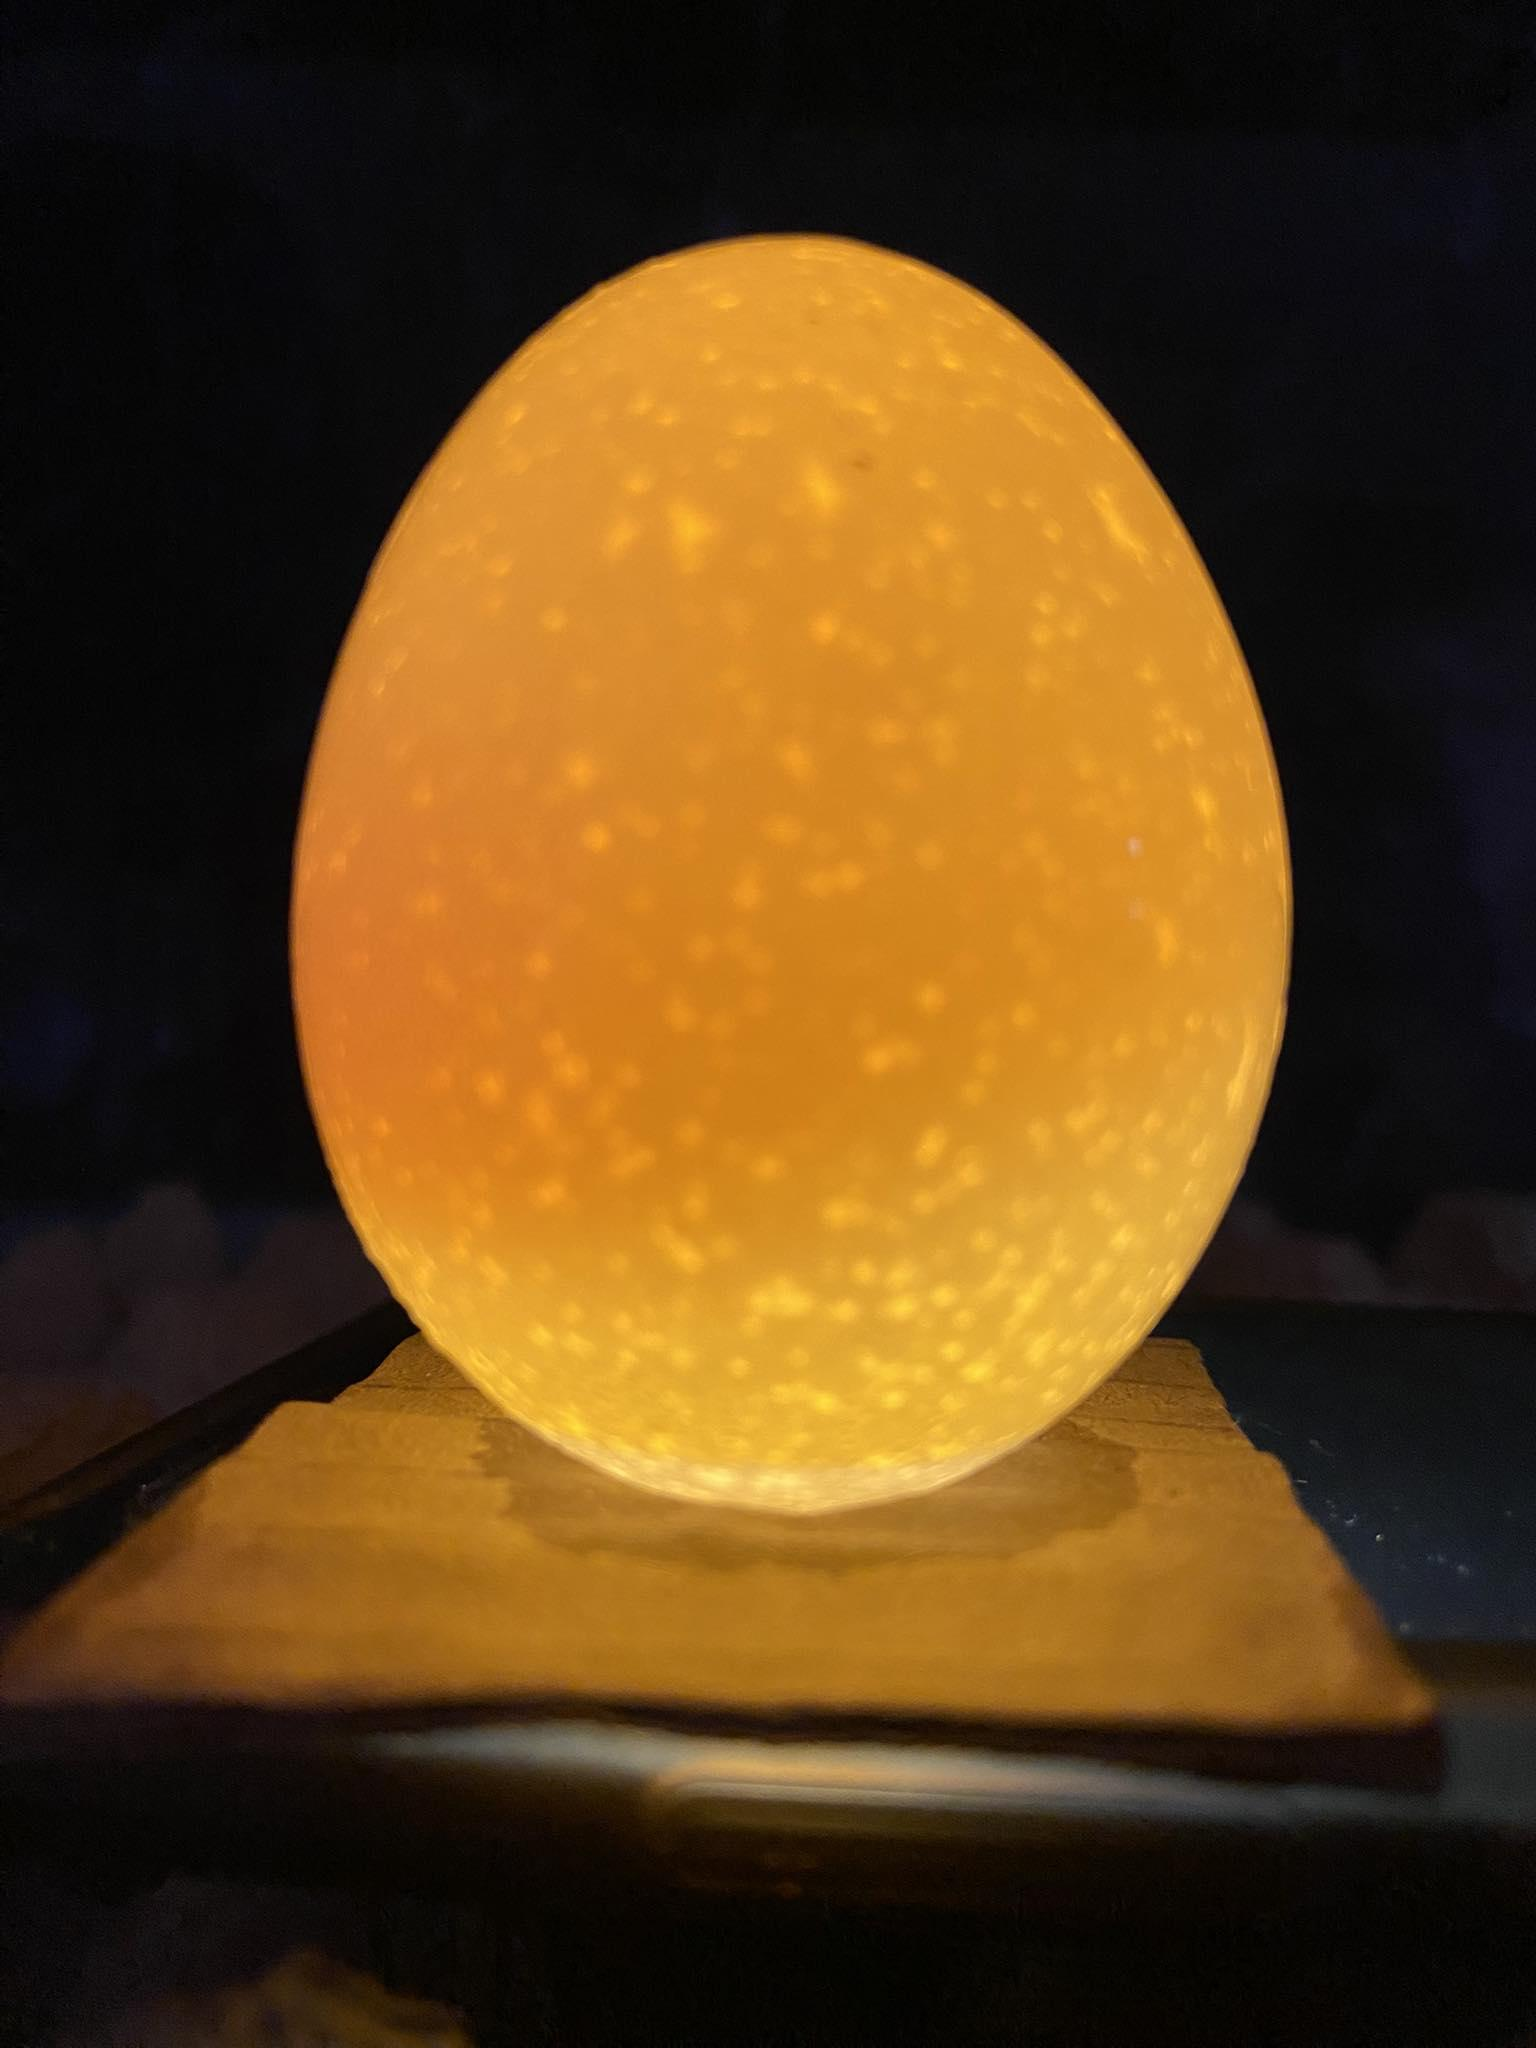AA - Premium: (269, 213, 1310, 1530)
